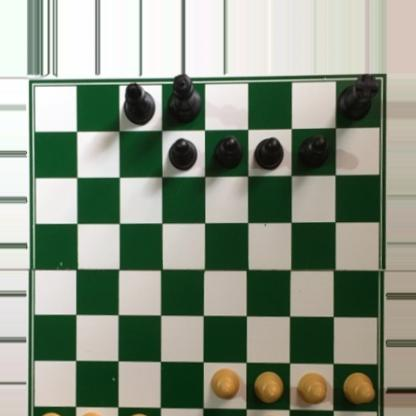black-bishop: (119, 81, 156, 126)
black-pawn: (296, 134, 332, 170), (214, 134, 244, 172), (167, 137, 199, 171), (255, 138, 284, 171)
black-queen: (166, 74, 203, 126)
black-rook: (338, 74, 383, 123)
white-bishop: (123, 410, 156, 416), (253, 414, 288, 416)
white-knight: (72, 409, 108, 416)
white-pawn: (296, 371, 329, 406), (253, 370, 285, 405), (209, 367, 240, 403), (342, 372, 375, 405)
white-rook: (26, 409, 69, 416)
